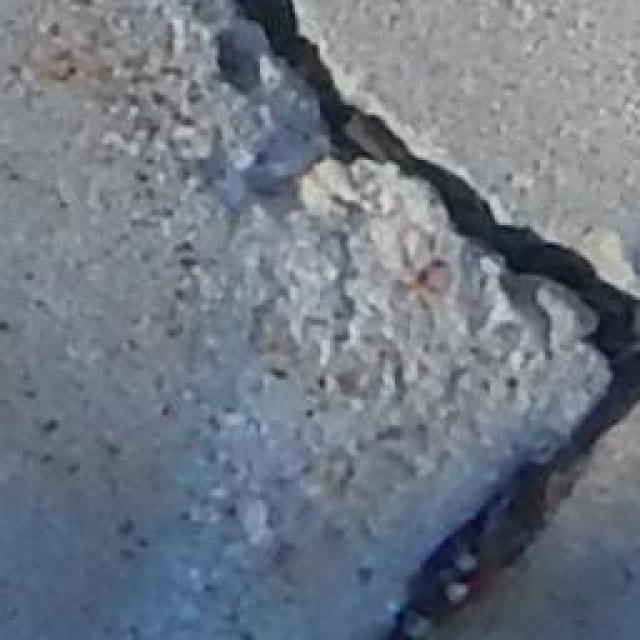concrete-crack: (173, 1, 640, 640)
